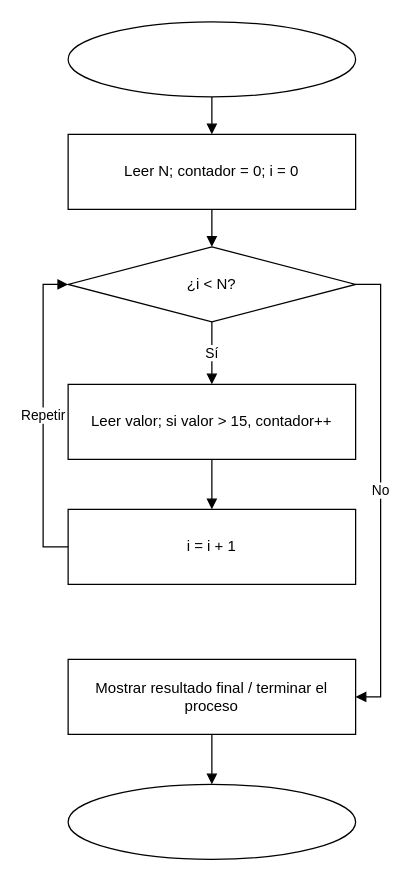
This 413x881 diagram has some shape labels left out. Here are the shapes that lost their labels. From the top down, the centre of each, then its label:
At point (211, 59): "INICIO · Ejercicio 41".
At point (211, 821): "FIN".
